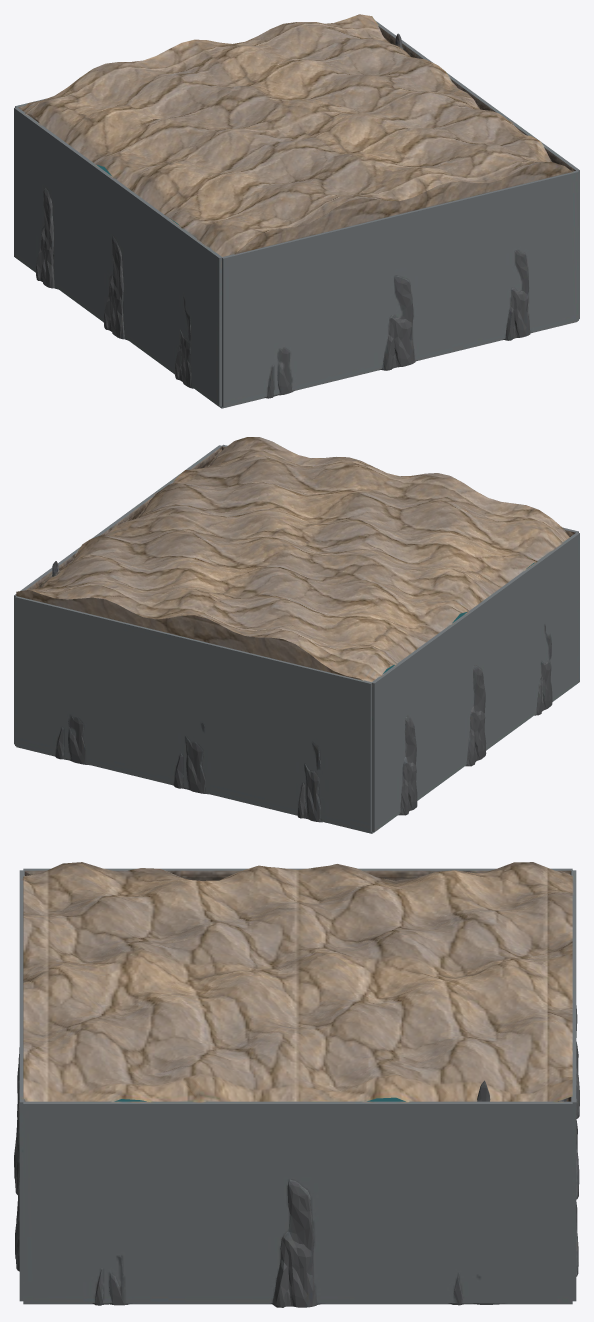
File: room.glb
The picture shows the model from 3 angles, top to bottom: view 1: azimuth 30°, elevation 25°; view 2: azimuth 150°, elevation 25°; view 3: azimuth 270°, elevation 25°; orthographic projection. The views are drawn at different scales.
Visible parts, largest first — view 1: IN-AQUARIUM; view 2: IN-AQUARIUM; view 3: IN-AQUARIUM.
Boxes of the visible parts, x1=… form: IN-AQUARIUM: x1=14, y1=14, x2=579, y2=408; IN-AQUARIUM: x1=14, y1=437, x2=579, y2=833; IN-AQUARIUM: x1=14, y1=862, x2=579, y2=1307.
Bounding box in the file's own units: 10.44 × 4.79 × 10.31.
1 material, 1 textured.
